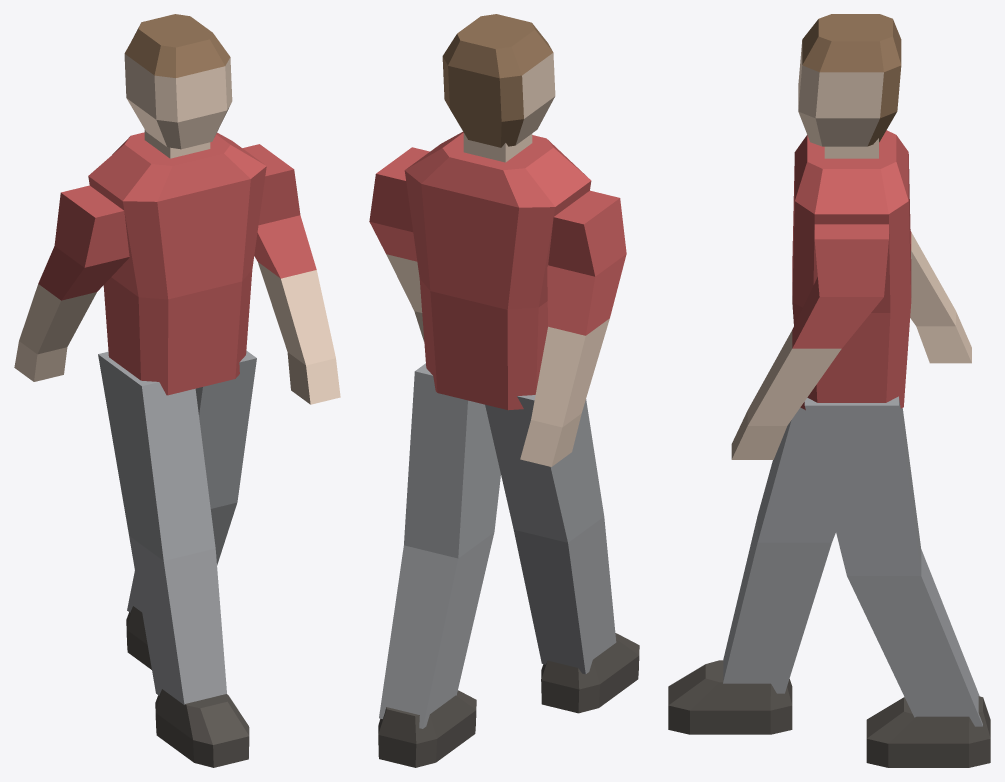
File: pedestrian_3_right.fbx
The picture shows the model from 3 angles, left to right: view 1: azimuth 30°, elevation 25°; view 2: azimuth 150°, elevation 25°; view 3: azimuth 270°, elevation 25°; orthographic projection. The views are drawn at different scales.
Visible parts, largest first — view 1: pedestrian_3_right; view 2: pedestrian_3_right; view 3: pedestrian_3_right.
Part boxes in pixels (x1,y1,x2,y2): pedestrian_3_right: (14,14,340,767); pedestrian_3_right: (369,14,639,767); pedestrian_3_right: (668,14,990,767).
Bounding box in the file's own units: 0.558 × 1.58 × 0.65.
